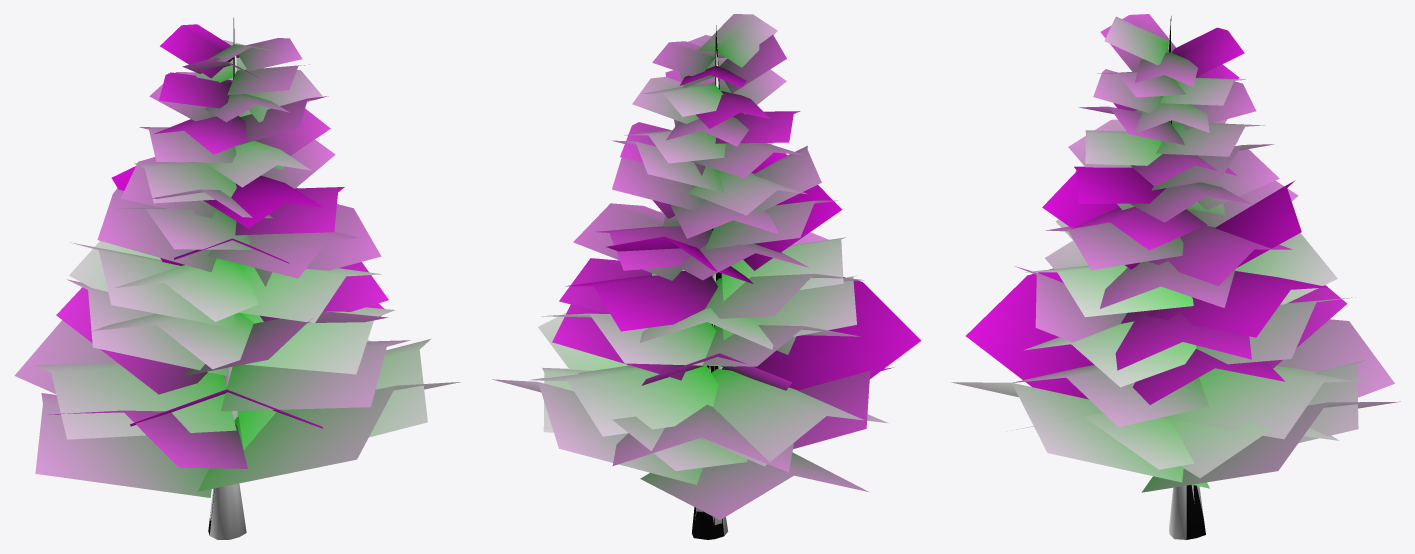
Rendered from fir_01_10m_b.dae.
3 views of the same model, side by side, from view 1: azimuth 30°, elevation 25°; view 2: azimuth 150°, elevation 25°; view 3: azimuth 270°, elevation 25° (orthographic). The views are drawn at different scales.
Visible parts, largest first — view 1: fir128, colmesh-1; view 2: fir128; view 3: fir128, colmesh-1.
Boxes of the visible parts, x1,y1,x2,y2 form: fir128: [14, 18, 460, 535]; colmesh-1: [209, 16, 246, 539]; fir128: [492, 14, 921, 539]; fir128: [951, 14, 1400, 539]; colmesh-1: [1168, 19, 1203, 539].
Size of the model in its own units: 7.41 by 7.9 by 10.14.
